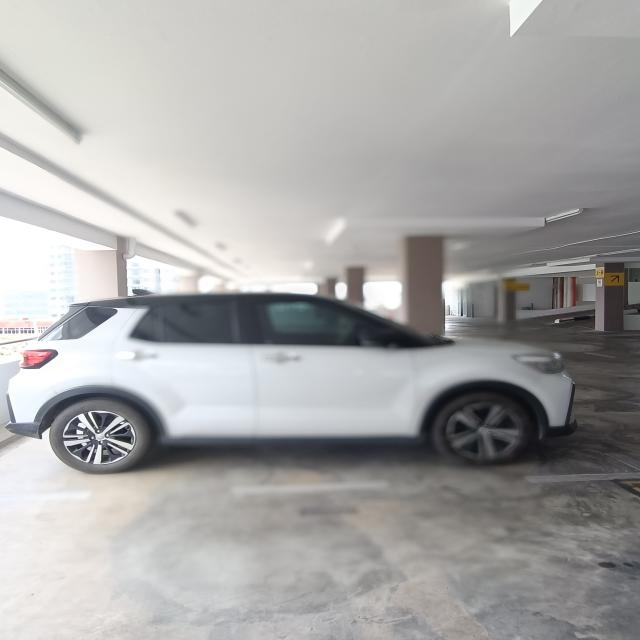PeroduaAtiva: (4, 290, 579, 474)
